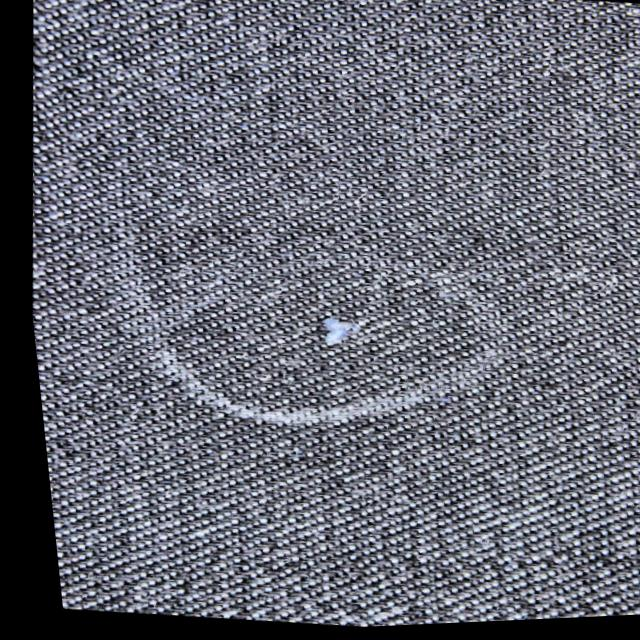Hole: (286, 303, 357, 363)
